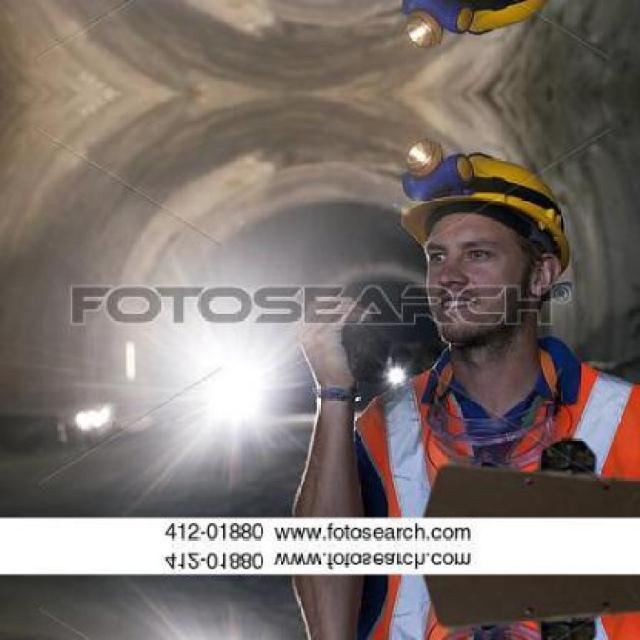helmet: (382, 132, 581, 358), (382, 0, 582, 54)
